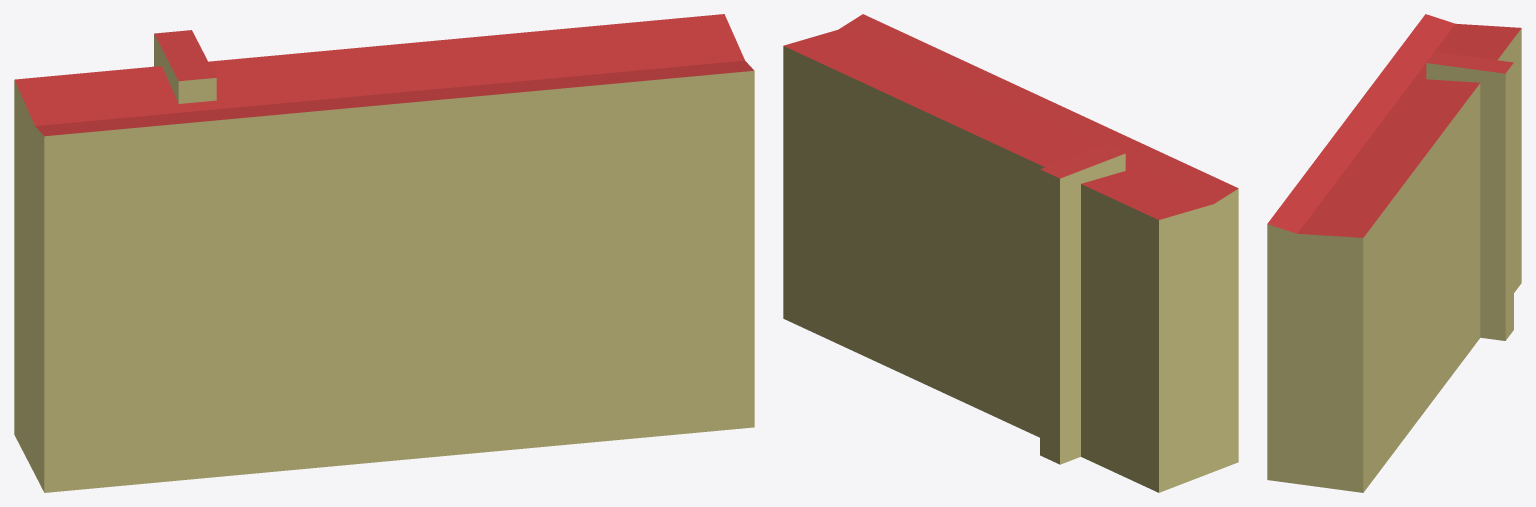
The picture shows the model from 3 angles, left to right: view 1: azimuth 30°, elevation 25°; view 2: azimuth 150°, elevation 25°; view 3: azimuth 270°, elevation 25°; orthographic projection. The views are drawn at different scales.
Parts seen in each view (by area): view 1: group_4, group_3, group_6, group_7; view 2: group_4, group_3, group_7, group_6; view 3: group_4, group_3, group_7, group_6.
Boxes of the visible parts, x1,y1,x2,y2 form: group_4: [14, 70, 754, 492]; group_3: [15, 14, 753, 136]; group_6: [154, 30, 216, 81]; group_7: [154, 34, 216, 103]; group_4: [783, 46, 1238, 492]; group_3: [783, 14, 1238, 219]; group_7: [1040, 153, 1125, 464]; group_6: [1040, 144, 1125, 178]; group_4: [1267, 28, 1521, 492]; group_3: [1267, 14, 1521, 237]; group_7: [1426, 63, 1513, 340]; group_6: [1426, 52, 1513, 73].
Size of the model in its own units: 59.66 by 28.79 by 33.36.
